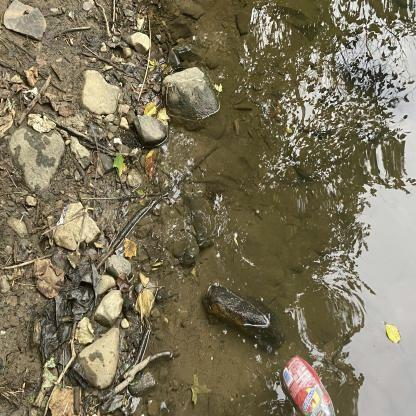Plastic: (274, 351, 341, 416)
